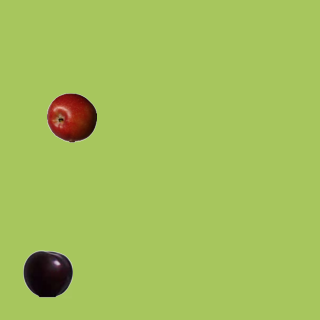Apple Braeburn: (46, 92, 96, 142)
Cherry Wax Black: (22, 248, 72, 298)
